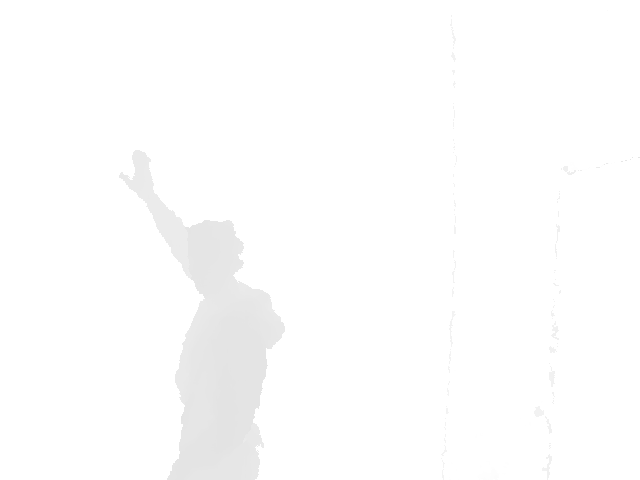hand: (117, 148, 162, 198)
head: (185, 219, 245, 294)
person: (118, 149, 287, 479)
